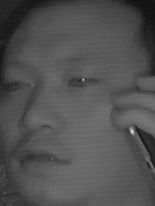eye: (67, 71, 99, 91), (4, 77, 33, 94)
mouth: (11, 138, 73, 175)
